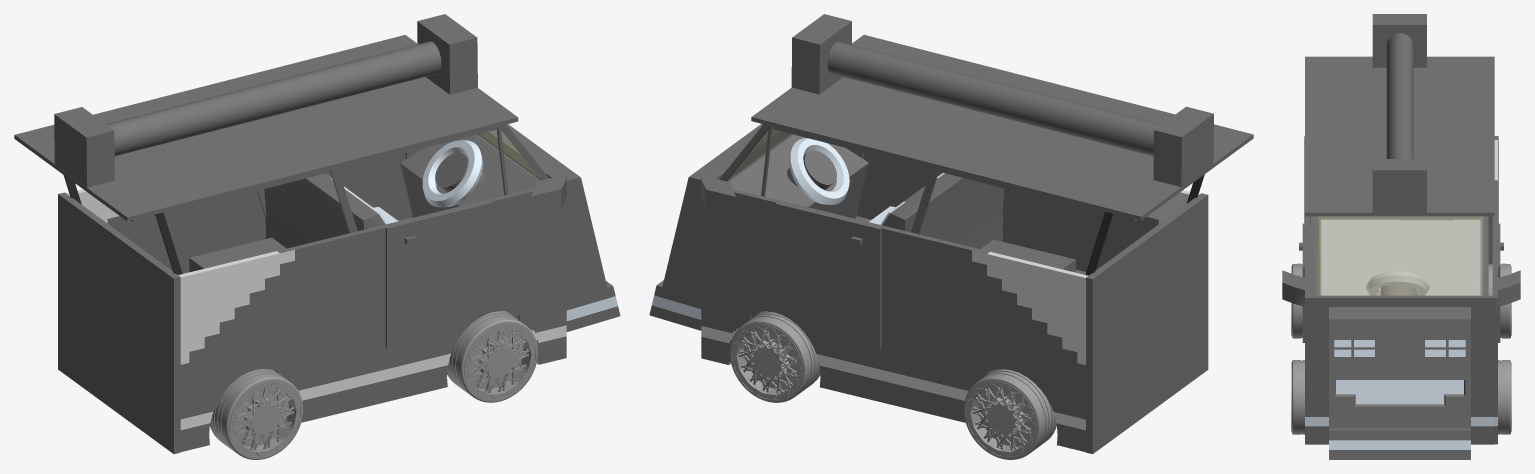
File: bbcamper.fbx
3 views of the same model, side by side, from view 1: azimuth 30°, elevation 25°; view 2: azimuth 150°, elevation 25°; view 3: azimuth 270°, elevation 25° (orthographic). The views are drawn at different scales.
Parts seen in each view (by area): view 1: Right, Box_2, Cube_2_4, Cube_1_3, Subdivision_Surface_1, Subdivision_Surface, Torus, Cube_9, Cylinder, Cube_2_2, Cube_8; view 2: Right, Box_2, Cube_2_4, Cube_1_3, Subdivision_Surface_1, Subdivision_Surface, Torus, Cube_9, Cylinder, Cube_2_2, Cube_7, Cube_5; view 3: Cube_1_3, Box_2, Cube_2_2, Right, Subdivision_Surface, Subdivision_Surface_1, Torus, Cube_1_2, Cube_2_3, Cube_2_4, Cylinder.
Boxes of the visible parts, x1,y1,x2,y2 form: Right: (66, 149, 566, 451); Box_2: (14, 14, 518, 222); Cube_2_4: (58, 192, 180, 454); Cube_1_3: (264, 124, 620, 333); Subdivision_Surface_1: (210, 369, 303, 459); Subdivision_Surface: (447, 310, 537, 402); Torus: (422, 140, 482, 207); Cube_9: (189, 237, 290, 382); Cylinder: (435, 153, 484, 192); Cube_2_2: (476, 127, 541, 180); Cube_8: (329, 167, 357, 233); Right: (701, 148, 1199, 452); Box_2: (751, 14, 1253, 221); Cube_2_4: (1086, 193, 1208, 454); Cube_1_3: (649, 124, 1004, 333); Subdivision_Surface_1: (963, 369, 1056, 459); Subdivision_Surface: (729, 311, 820, 402); Torus: (789, 138, 849, 204); Cube_9: (976, 239, 1075, 382); Cylinder: (787, 150, 836, 189); Cube_2_2: (727, 127, 793, 181); Cube_7: (911, 167, 939, 234); Cube_5: (1085, 211, 1113, 275); Cube_1_3: (1305, 216, 1494, 459); Box_2: (1305, 14, 1494, 219); Cube_2_2: (1316, 216, 1483, 295); Right: (1282, 139, 1520, 444); Subdivision_Surface: (1291, 360, 1511, 434); Subdivision_Surface_1: (1291, 263, 1511, 338); Torus: (1366, 272, 1428, 295); Cube_1_2: (1311, 216, 1316, 295); Cube_2_3: (1483, 216, 1488, 295); Cube_2_4: (1304, 136, 1498, 264); Cylinder: (1381, 284, 1414, 295).
Bounding box in the file's own units: 92.41 × 56.2 × 44.76.
